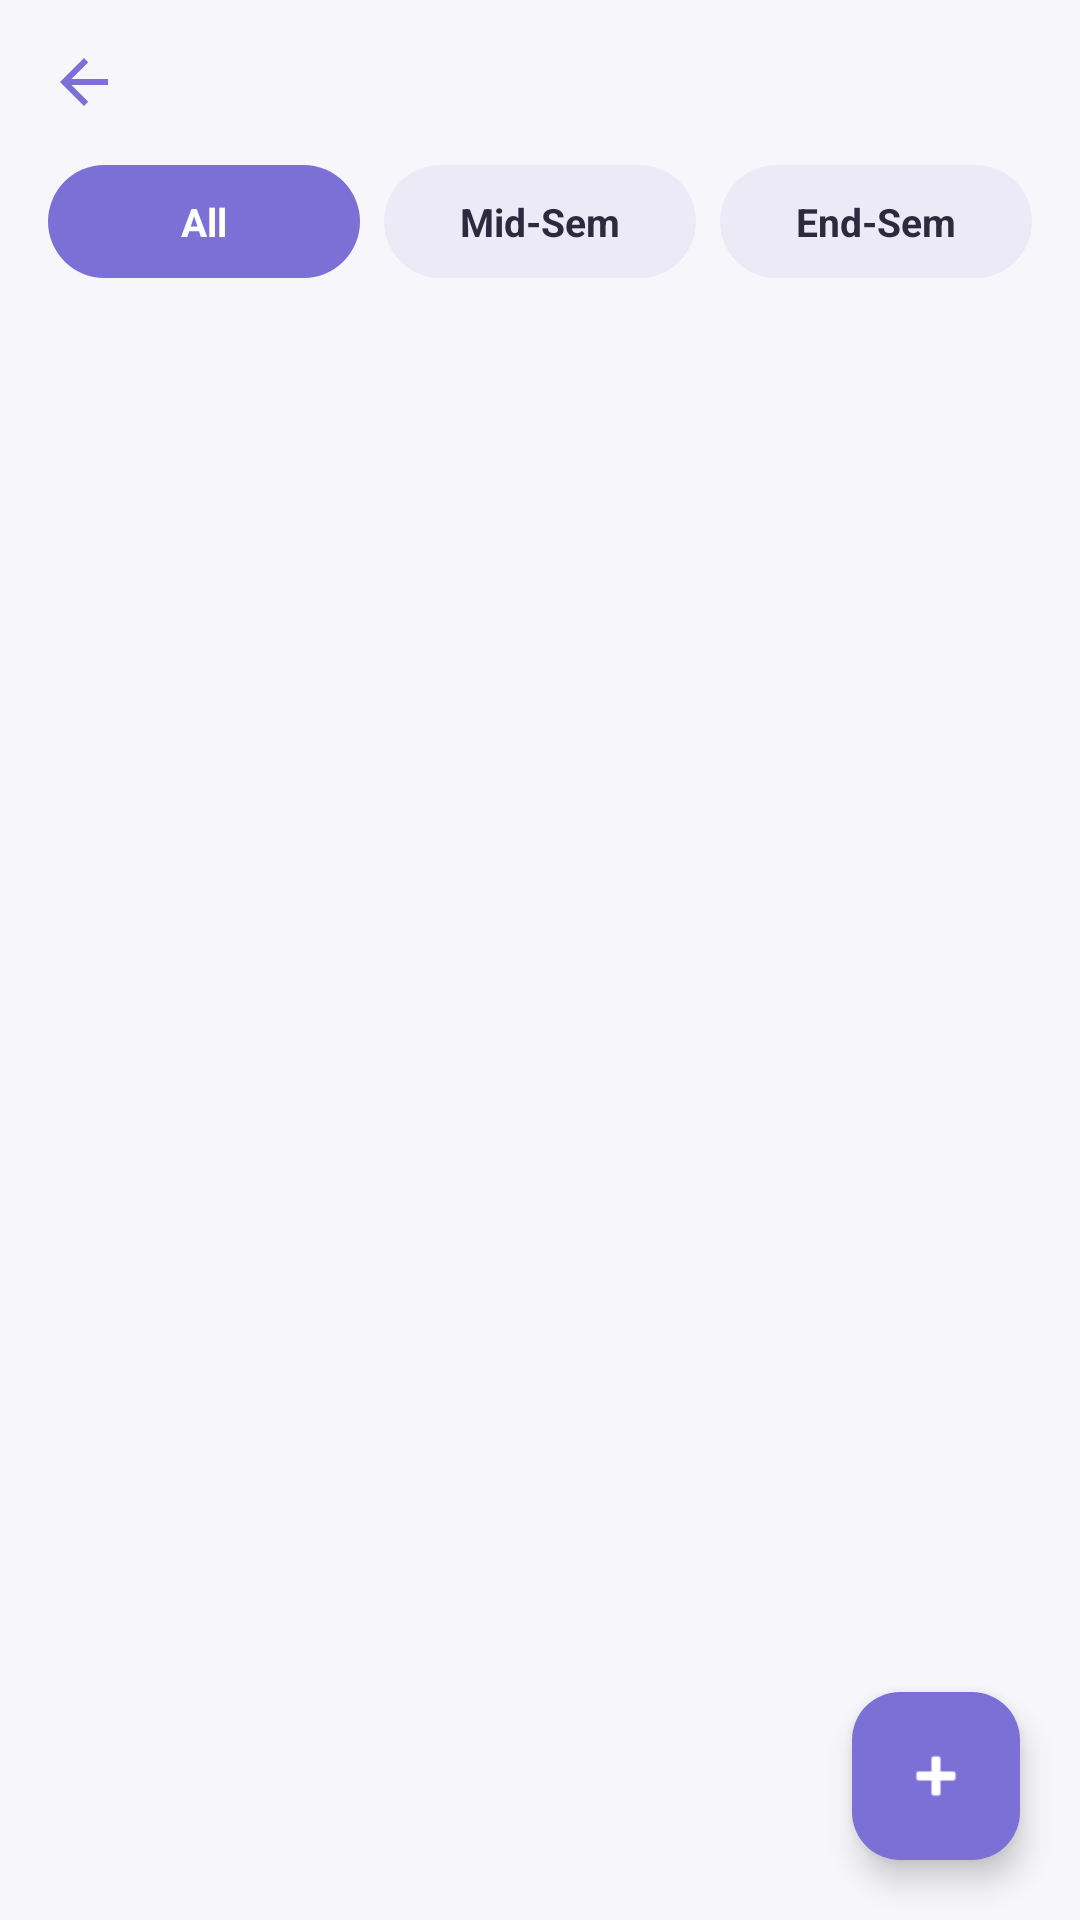

Icons on this 1080×1920 Android screen, each with its box as (x1, y1, x2, y2):
Add paper: (852, 1692, 1020, 1860)
arrow back: (60, 58, 108, 106)
